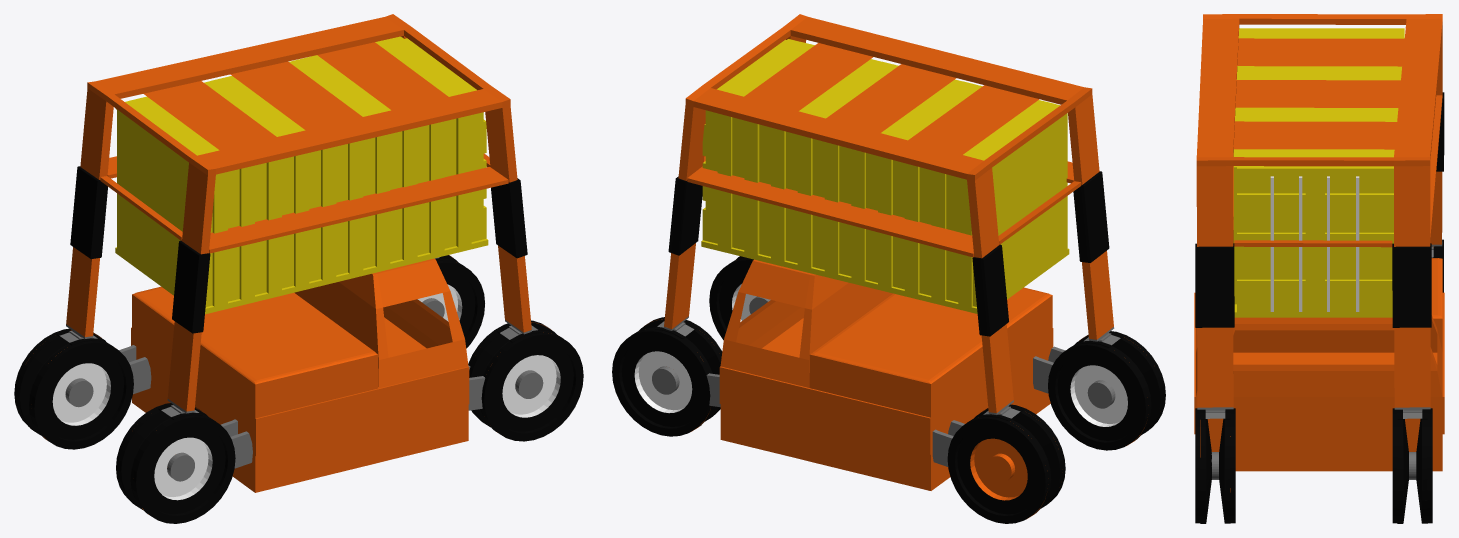
The model's file is straddle-carrier.glb.
The picture shows the model from 3 angles, left to right: view 1: azimuth 30°, elevation 25°; view 2: azimuth 150°, elevation 25°; view 3: azimuth 270°, elevation 25°; orthographic projection.
Visible parts, largest first — view 1: Cube, Cube.001; view 2: Cube, Cube.001; view 3: Cube, Cube.001.
Part boxes in pixels (x1,y1,x2,y2): Cube: (14, 14, 583, 523); Cube.001: (115, 36, 488, 314); Cube: (612, 14, 1165, 523); Cube.001: (701, 39, 1069, 313); Cube: (1194, 14, 1444, 523); Cube.001: (1233, 28, 1404, 317).
Bounding box in the file's own units: 62.66 × 46.56 × 30.42.
1 material, 1 textured.
